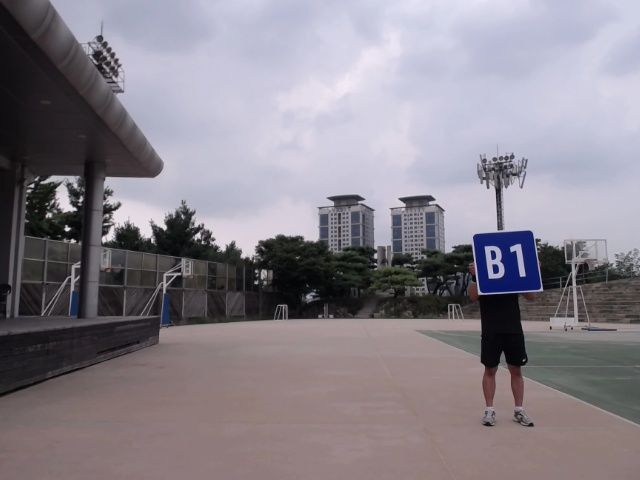delivery_b1: (472, 230, 543, 294)
